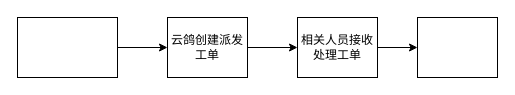
Image size: 515x95. Some labels were removed from this diagram. The shapes that lost their labels are listed below. From the top down, each one's box as (x1, y1, x2, y2) in pixels, then its label:
(16, 16, 118, 78): 数据库自治平台生成健康度报告pdf
(416, 16, 498, 78): 关单， 流程结束
